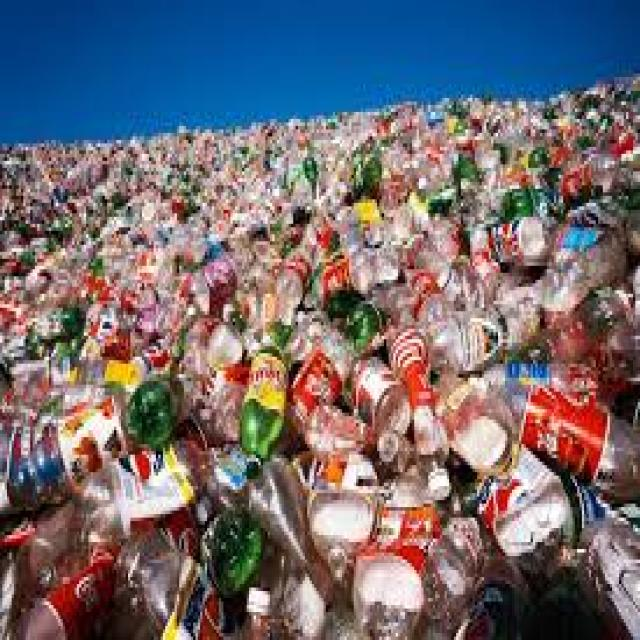plastic_bottle: (185, 323, 378, 499), (493, 359, 640, 527), (2, 386, 143, 547), (311, 438, 395, 594)
